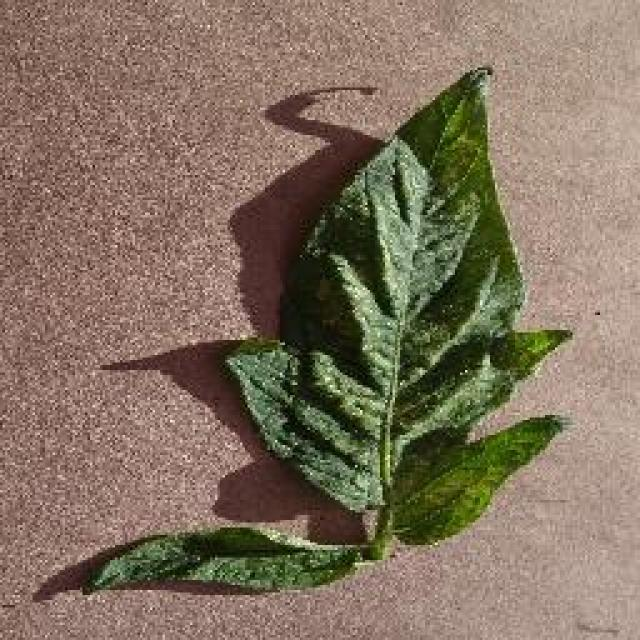Tomato mosaic virus leaf: (219, 59, 571, 534), (84, 531, 384, 601)
